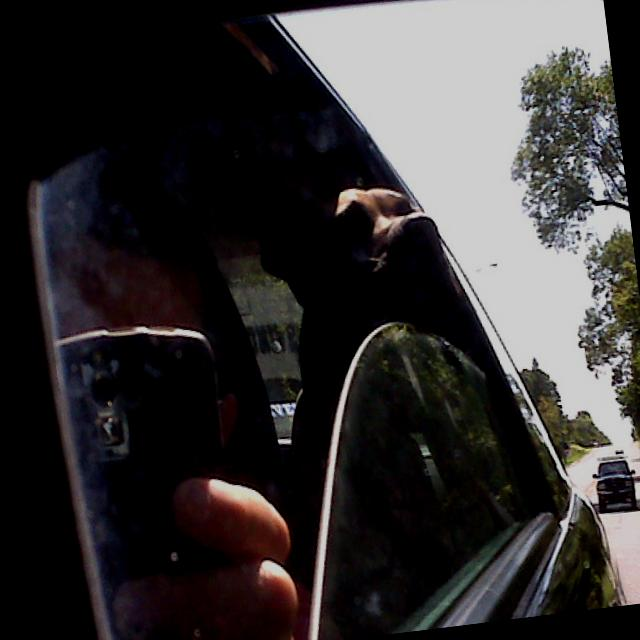Vehicle: (0, 0, 621, 640), (590, 456, 640, 512)
